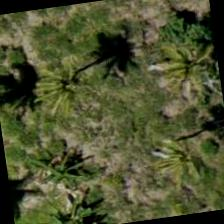Kelapa_Sawit: (18, 34, 120, 136), (119, 116, 220, 218), (141, 4, 222, 104)
